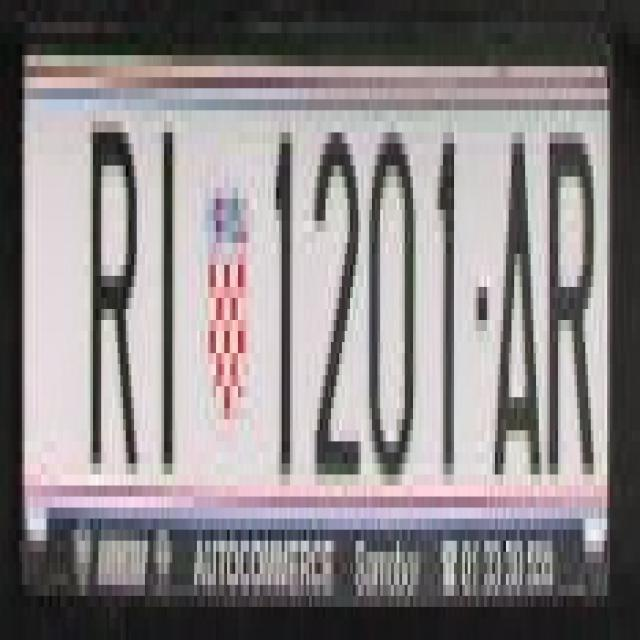0: (361, 110, 413, 463)
1: (270, 110, 304, 486), (432, 121, 460, 496)
2: (312, 100, 364, 474)
A: (489, 100, 542, 474)
